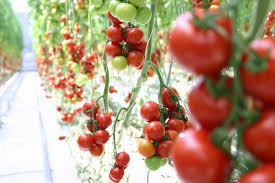tomato: (168, 13, 238, 76), (174, 130, 228, 178), (187, 78, 237, 127), (241, 41, 274, 102), (156, 85, 179, 107), (139, 102, 162, 122), (144, 120, 165, 141), (127, 50, 145, 70), (138, 139, 157, 157), (107, 25, 125, 42), (133, 39, 152, 55), (167, 104, 187, 119), (157, 141, 175, 157), (96, 114, 114, 130), (83, 99, 99, 117), (105, 41, 121, 59), (125, 27, 143, 43), (165, 118, 184, 133), (107, 11, 124, 27), (77, 135, 93, 151), (92, 130, 110, 144), (115, 151, 131, 166), (110, 167, 126, 181), (89, 142, 104, 156)
